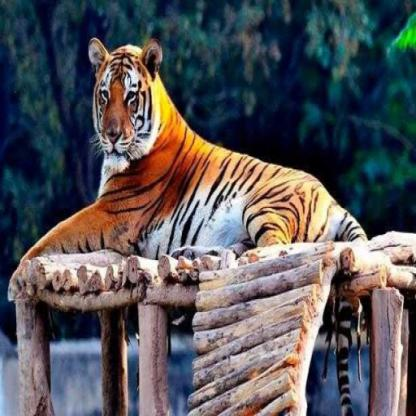Tiger: (5, 27, 380, 257)
